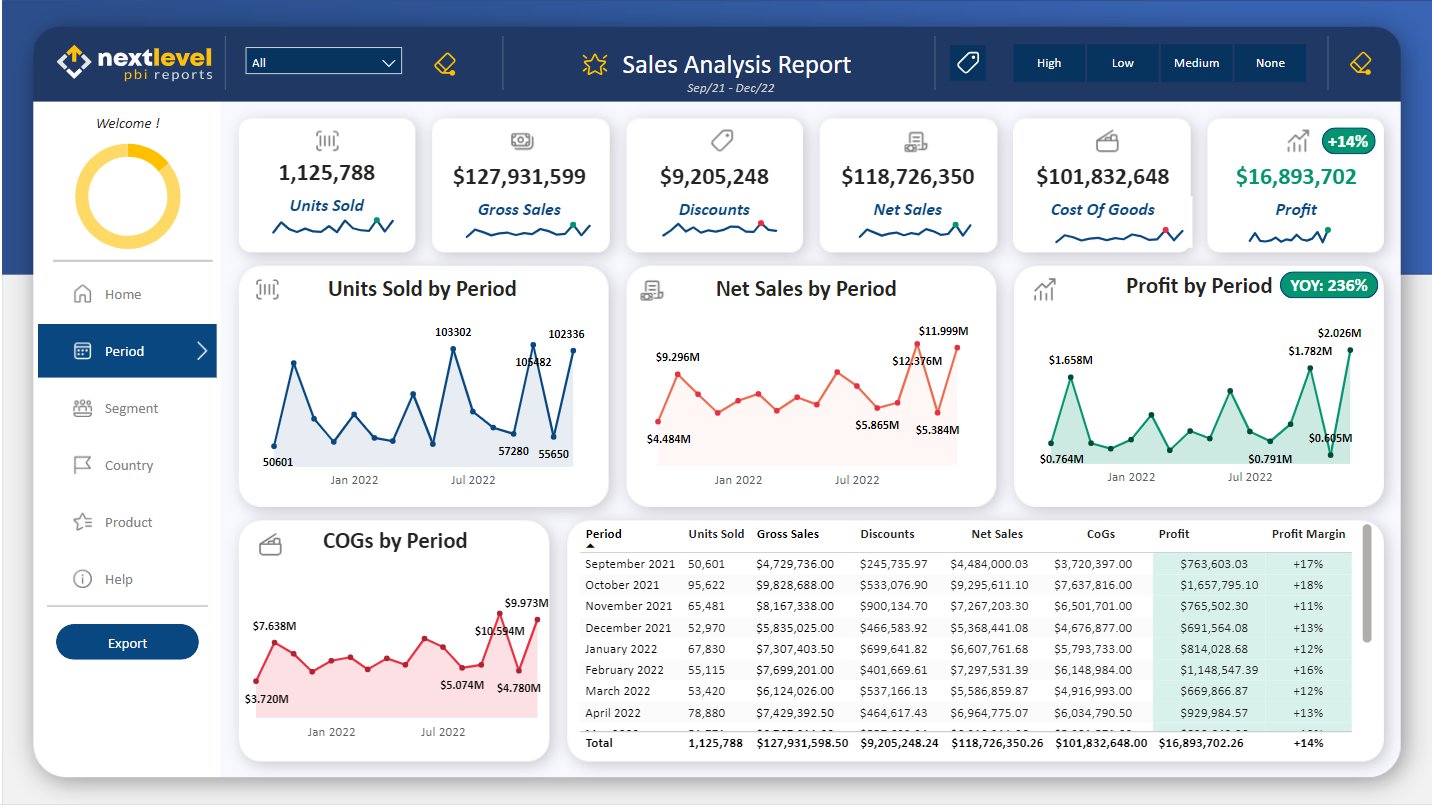

The dashboard page shown, as its layout file describes it:
{"tool":"powerbi","page":{"name":"Sales Analysis","canvas":[1280,720],"ordinal":1},"visuals":[{"type":"shape","title":"vertical line","box":[192,32,16,48],"z":0,"group":"g10"},{"type":"shape","title":"Profit margin Shape","box":[1182,114,48,24],"z":0,"group":"g7"},{"type":"shape","title":"line separate menu","box":[45,218,143,32],"z":0,"group":"g8"},{"type":"actionButton","title":"Units sold Button","box":[222,243,32,32],"z":0,"group":"g6"},{"type":"actionButton","title":"Net Sales Button","box":[567,243,32,32],"z":0,"group":"g4"},{"type":"actionButton","title":"Profit Button","box":[918,243,32,32],"z":0,"group":"g2"},{"type":"actionButton","title":"Period_active","box":[32,291,160,48],"z":0,"group":"g11"},{"type":"tableEx","fields":{"Values":["Dim_Date.Reporting period","Mesures.M_Units Sold","Mesures.M_Gross Sales","Mesures.M_Discounts","Mesures.M_Net Sales","Mesures.M_Cost Of Goods","Mesures.M_Profit","Mesures.M_Profit Margin Formatted"]},"box":[512,464,720,216],"z":0,"group":"g5"},{"type":"actionButton","title":"COGs Button","box":[224,472,32,32],"z":0,"group":"g1"},{"type":"actionButton","title":"Export","box":[48,560,128,32],"z":0,"group":"g3"},{"type":"slicer","title":"Manager Slicer","fields":{"Values":["DIM_MANAGERS.Manager Name"]},"box":[208,32,160,48],"z":1000,"group":"g9"},{"type":"shape","title":"vertical line","box":[440,32,16,48],"z":1000,"group":"g10"},{"type":"card","title":"Welcome_card","fields":{"Values":["Mesures.M_User Greeting"]},"box":[32,96,160,32],"z":1000,"group":"g8"},{"type":"card","title":"Profit margin Card","fields":{"Values":["Mesures.M_Profit Margin Formatted"]},"box":[1178,106,54,42],"z":1000,"group":"g7"},{"type":"lineChart","title":"Profit by Period","fields":{"Category":["Dim_Date.Reporting period"],"Y":["Mesures.M_Profit"]},"box":[912,243,320,200],"z":1000,"group":"g2"},{"type":"areaChart","title":"Units Sold by Period","fields":{"Category":["Dim_Date.Reporting period"],"Y":["Mesures.M_Units Sold"]},"box":[216,246,320,200],"z":1000,"group":"g6"},{"type":"lineChart","title":"Net Sales by Period","fields":{"Category":["Dim_Date.Reporting period"],"Y":["Mesures.M_Net Sales"]},"box":[560,246,320,200],"z":1000,"group":"g4"},{"type":"actionButton","title":"arrow Button","box":[160,291,32,48],"z":1000,"group":"g11"},{"type":"group","id":"g1","title":"CoGs Line chart","box":[200,472,304,200],"z":1000,"group":"g5"},{"type":"lineChart","title":"COGs by Period","fields":{"Category":["Dim_Date.Reporting period"],"Y":["Mesures.M_Cost Of Goods"]},"box":[200,472,304,200],"z":1000,"group":"g1"},{"type":"shape","title":"Bottom_line","box":[40,528,144,32],"z":1000,"group":"g3"},{"type":"shape","title":"vertical line","box":[832,32,8,48],"z":2000,"group":"g10"},{"type":"actionButton","title":" Clear Button  Manager","box":[378,44,36,25],"z":2000,"group":"g9"},{"type":"actionButton","title":"Profit Button","box":[1144,110,32,32],"z":2000,"group":"g7"},{"type":"donutChart","title":"Donut chart","fields":{"Y":["Mesures.M_Profit Margin","Mesures.M_100% Minus Profit Margin"]},"box":[48,112,128,128],"z":2000,"group":"g8"},{"type":"group","id":"g2","title":"Profit line chart","box":[912,235,321,208],"z":2000,"group":"g5"},{"type":"shape","title":"Profit margin Shape","box":[1145,243,88,24],"z":2000,"group":"g2"},{"type":"actionButton","title":"Help","box":[32,495,160,48],"z":2000,"group":"g3"},{"type":"shape","title":"vertical line","box":[1184,32,8,48],"z":3000,"group":"g10"},{"type":"actionButton","title":"Star Logo","box":[500,37,63,40],"z":3000,"group":"g9"},{"type":"pivotTable","title":"Profit Matrix","fields":{"Values":["SparklineData(Mesures.M_Profit_[Dim_Date.yearMonth])"]},"box":[1088,170,135,58],"z":3000,"group":"g7"},{"type":"card","title":"Profit margin Card","fields":{"Values":["Mesures.M_Profit YOY% Formatted"]},"box":[1145,235,87,42],"z":3000,"group":"g2"},{"type":"group","id":"g3","title":"Menu bar","box":[32,240,160,352],"z":3000,"group":"g8"},{"type":"group","id":"g4","title":"Net sales line chart","box":[560,243,320,203],"z":3000,"group":"g5"},{"type":"textbox","title":"Title","box":[550,37,235,41],"z":4000,"group":"g9"},{"type":"card","title":"Profit Card","fields":{"Values":["Mesures.M_Profit"]},"box":[1086,119,144,96],"z":4000,"group":"g7"},{"type":"group","id":"g5","title":"Period","box":[200,235,1033,445],"z":4000},{"type":"group","id":"g6","title":"Units sold line chart","box":[216,243,320,203],"z":4000,"group":"g5"},{"type":"actionButton","title":"Product","box":[32,444,160,48],"z":4000,"group":"g3"},{"type":"card","title":"Selected_date Card ","fields":{"Values":["Mesures.M_Date Selection"]},"box":[592,64,120,24],"z":5000,"group":"g9"},{"type":"group","id":"g7","title":"Upper Cards - Static","box":[213,106,1019,132],"z":5000},{"type":"actionButton","title":"COGs Button","box":[973.4,110,32,32],"z":5000,"group":"g7"},{"type":"actionButton","title":"Dynamic Filter_button","box":[848,40,32,32],"z":6000,"group":"g9"},{"type":"group","id":"g8","title":"Navigation","box":[32,96,160,496],"z":6000},{"type":"pivotTable","title":"COGs Matrix","fields":{"Values":["SparklineData(Mesures.M_Cost Of Goods_[Dim_Date.yearMonth])"]},"box":[914.8,170,157,68],"z":6000,"group":"g7"},{"type":"actionButton","title":"Country","box":[32,393,160,48],"z":6000,"group":"g3"},{"type":"group","id":"g9","title":"Header","box":[192,32,1048,56],"z":7000},{"type":"slicer","title":"Slicer for Discount Band","fields":{"Values":["FACT_SALES.Discount Band"]},"box":[880,32,312,48],"z":7000,"group":"g9"},{"type":"card","title":"COGs Card","fields":{"Values":["Mesures.M_Cost Of Goods"]},"box":[912.2,119,144,96],"z":7000,"group":"g7"},{"type":"actionButton","title":"Clear Button","box":[1192,40,48,32],"z":8000,"group":"g9"},{"type":"actionButton","title":"Net Sales Button","box":[802.8,110,32,32],"z":8000,"group":"g7"},{"type":"actionButton","title":"Segment","box":[32,342,160,48],"z":8000,"group":"g3"},{"type":"group","id":"g10","title":"Vertical lines","box":[192,32,1000,48],"z":9000,"group":"g9"},{"type":"pivotTable","title":"Net sales Matrix","fields":{"Values":["SparklineData(Mesures.M_Net Sales_[Dim_Date.yearMonth])"]},"box":[738.6,164,170,64],"z":9000,"group":"g7"},{"type":"group","id":"g11","title":"Period_active","box":[32,291,160,48],"z":9000,"group":"g3"},{"type":"card","title":"Net_sales Card","fields":{"Values":["Mesures.M_Net Sales"]},"box":[738.4,119,144,96],"z":10000,"group":"g7"},{"type":"actionButton","title":"Discounts Button","box":[624.2,110,40,32],"z":11000,"group":"g7"},{"type":"actionButton","title":"Home","box":[32,240,160,48],"z":11000,"group":"g3"},{"type":"pivotTable","title":"Discounts Matrix","fields":{"Values":["SparklineData(Mesures.M_Discounts_[Dim_Date.yearMonth])"]},"box":[562.4,162,170,66],"z":12000,"group":"g7"},{"type":"card","title":"Discounts Card","fields":{"Values":["Mesures.M_Discounts"]},"box":[564.6,119,144,96],"z":13000,"group":"g7"},{"type":"actionButton","title":"Gross sales Button","box":[445.6,110,40,32],"z":14000,"group":"g7"},{"type":"pivotTable","title":"Gross_sales Matrix","fields":{"Values":["SparklineData(Mesures.M_Gross Sales_[Dim_Date.yearMonth])"]},"box":[386.2,164,170,64],"z":15000,"group":"g7"},{"type":"card","title":"Gross_sales Card","fields":{"Values":["Mesures.M_Gross Sales"]},"box":[390.8,119,144,96],"z":16000,"group":"g7"},{"type":"actionButton","title":"Units sold Button","box":[275,110,32,32],"z":17000,"group":"g7"},{"type":"pivotTable","title":"Unit_sold Matrix","fields":{"Values":["SparklineData(Mesures.M_Units Sold_[Dim_Date.yearMonth])"]},"box":[213,160,170,68],"z":18000,"group":"g7"},{"type":"card","title":"Unit_sold Card","fields":{"Values":["Mesures.M_Units Sold"]},"box":[218,119,143,89],"z":19000,"group":"g7"}]}

Visuals, with their boxes in screenshot pixels (x1, y1, x2, y2), scaled from the page's 1280x720 canvas onto the 1432x805 screenshot:
"vertical line" shape: x1=215 y1=36 x2=233 y2=89
"Profit margin Shape" shape: x1=1322 y1=127 x2=1376 y2=154
"line separate menu" shape: x1=50 y1=244 x2=210 y2=280
"Units sold Button" actionButton: x1=248 y1=272 x2=284 y2=307
"Net Sales Button" actionButton: x1=634 y1=272 x2=670 y2=307
"Profit Button" actionButton: x1=1027 y1=272 x2=1063 y2=307
"Period_active" actionButton: x1=36 y1=325 x2=215 y2=379
tableEx - Dim_Date.Reporting period x Mesures.M_Units Sold: x1=573 y1=519 x2=1378 y2=760
"COGs Button" actionButton: x1=251 y1=528 x2=286 y2=564
"Export" actionButton: x1=54 y1=626 x2=197 y2=662
"Manager Slicer" slicer: x1=233 y1=36 x2=412 y2=89
"vertical line" shape: x1=492 y1=36 x2=510 y2=89
"Welcome_card" card: x1=36 y1=107 x2=215 y2=143
"Profit margin Card" card: x1=1318 y1=119 x2=1378 y2=165
"Profit by Period" lineChart: x1=1020 y1=272 x2=1378 y2=495
"Units Sold by Period" areaChart: x1=242 y1=275 x2=600 y2=499
"Net Sales by Period" lineChart: x1=626 y1=275 x2=984 y2=499
"arrow Button" actionButton: x1=179 y1=325 x2=215 y2=379
"CoGs Line chart" group: x1=224 y1=528 x2=564 y2=751
"COGs by Period" lineChart: x1=224 y1=528 x2=564 y2=751
"Bottom_line" shape: x1=45 y1=590 x2=206 y2=626
"vertical line" shape: x1=931 y1=36 x2=940 y2=89
" Clear Button  Manager" actionButton: x1=423 y1=49 x2=463 y2=77
"Profit Button" actionButton: x1=1280 y1=123 x2=1316 y2=159
"Donut chart" donutChart: x1=54 y1=125 x2=197 y2=268
"Profit line chart" group: x1=1020 y1=263 x2=1379 y2=495
"Profit margin Shape" shape: x1=1281 y1=272 x2=1379 y2=299
"Help" actionButton: x1=36 y1=553 x2=215 y2=607
"vertical line" shape: x1=1325 y1=36 x2=1334 y2=89
"Star Logo" actionButton: x1=559 y1=41 x2=630 y2=86
"Profit Matrix" pivotTable: x1=1217 y1=190 x2=1368 y2=255
"Profit margin Card" card: x1=1281 y1=263 x2=1378 y2=310
"Menu bar" group: x1=36 y1=268 x2=215 y2=662
"Net sales line chart" group: x1=626 y1=272 x2=984 y2=499
"Title" textbox: x1=615 y1=41 x2=878 y2=87
"Profit Card" card: x1=1215 y1=133 x2=1376 y2=240
"Period" group: x1=224 y1=263 x2=1379 y2=760
"Units sold line chart" group: x1=242 y1=272 x2=600 y2=499
"Product" actionButton: x1=36 y1=496 x2=215 y2=550
"Selected_date Card " card: x1=662 y1=72 x2=797 y2=98
"Upper Cards - Static" group: x1=238 y1=119 x2=1378 y2=266
"COGs Button" actionButton: x1=1089 y1=123 x2=1125 y2=159
"Dynamic Filter_button" actionButton: x1=949 y1=45 x2=984 y2=80
"Navigation" group: x1=36 y1=107 x2=215 y2=662
"COGs Matrix" pivotTable: x1=1023 y1=190 x2=1199 y2=266
"Country" actionButton: x1=36 y1=439 x2=215 y2=493
"Header" group: x1=215 y1=36 x2=1387 y2=98
"Slicer for Discount Band" slicer: x1=984 y1=36 x2=1334 y2=89
"COGs Card" card: x1=1021 y1=133 x2=1182 y2=240
"Clear Button" actionButton: x1=1334 y1=45 x2=1387 y2=80
"Net Sales Button" actionButton: x1=898 y1=123 x2=934 y2=159
"Segment" actionButton: x1=36 y1=382 x2=215 y2=436
"Vertical lines" group: x1=215 y1=36 x2=1334 y2=89
"Net sales Matrix" pivotTable: x1=826 y1=183 x2=1016 y2=255
"Period_active" group: x1=36 y1=325 x2=215 y2=379
"Net_sales Card" card: x1=826 y1=133 x2=987 y2=240
"Discounts Button" actionButton: x1=698 y1=123 x2=743 y2=159
"Home" actionButton: x1=36 y1=268 x2=215 y2=322
"Discounts Matrix" pivotTable: x1=629 y1=181 x2=819 y2=255
"Discounts Card" card: x1=632 y1=133 x2=793 y2=240
"Gross sales Button" actionButton: x1=499 y1=123 x2=543 y2=159
"Gross_sales Matrix" pivotTable: x1=432 y1=183 x2=622 y2=255
"Gross_sales Card" card: x1=437 y1=133 x2=598 y2=240
"Units sold Button" actionButton: x1=308 y1=123 x2=343 y2=159
"Unit_sold Matrix" pivotTable: x1=238 y1=179 x2=428 y2=255
"Unit_sold Card" card: x1=244 y1=133 x2=404 y2=233
